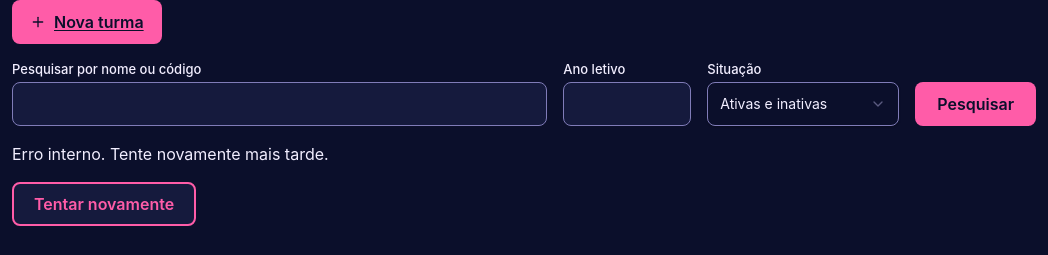
Test: 003/US1-2 ClassesList — pesquisa, filtros e paginação (FR-007) › erro de carregamento com Tentar novamente
Expected: the message does not show ""
Click the button "Tentar novamente" at x=104, y=204, box [12,182,196,226]
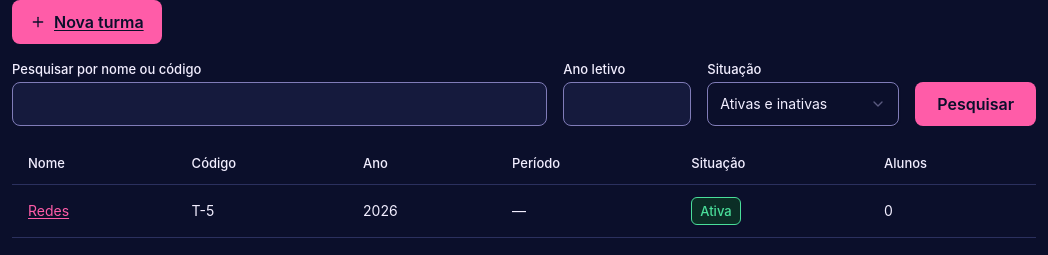
Result: the link "Redes" is shown at [28,202,69,219]
